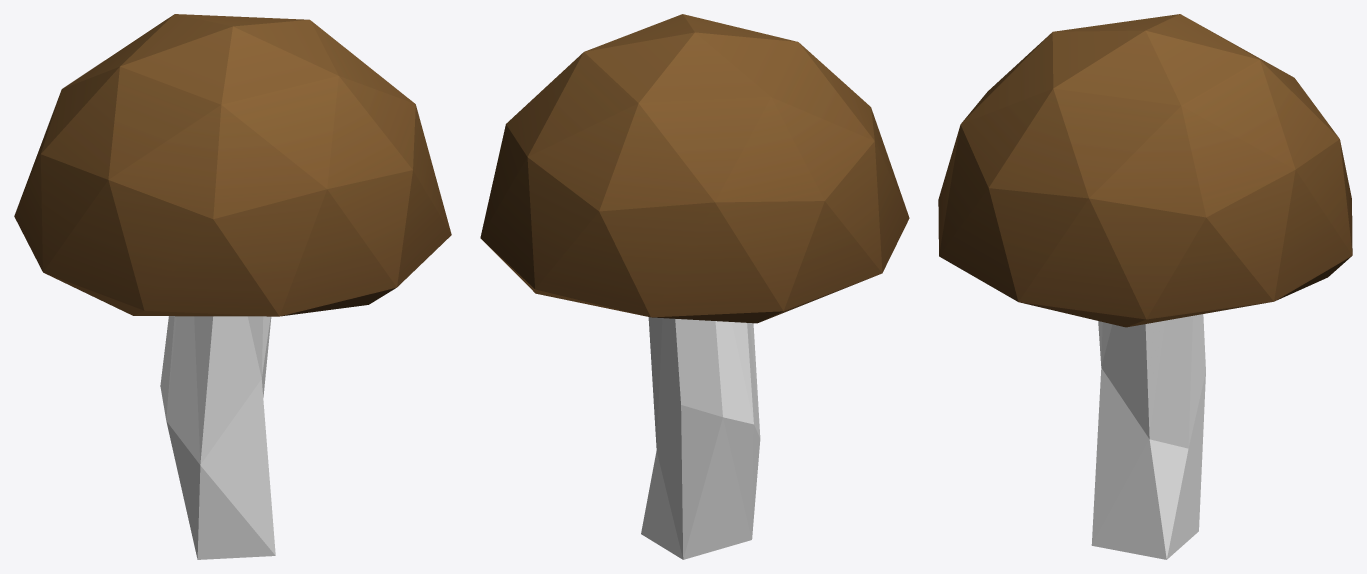
The model's file is Mushroom_04.fbx.
3 views of the same model, side by side, from view 1: azimuth 30°, elevation 25°; view 2: azimuth 150°, elevation 25°; view 3: azimuth 270°, elevation 25° (orthographic).
Visible parts, largest first — view 1: Mushroom_04; view 2: Mushroom_04; view 3: Mushroom_04.
Part boxes in pixels (x1,y1,x2,y2): Mushroom_04: (14, 14, 451, 559); Mushroom_04: (480, 14, 909, 559); Mushroom_04: (938, 14, 1352, 559).
Bounding box in the file's own units: 23.13 × 29.82 × 22.03.
